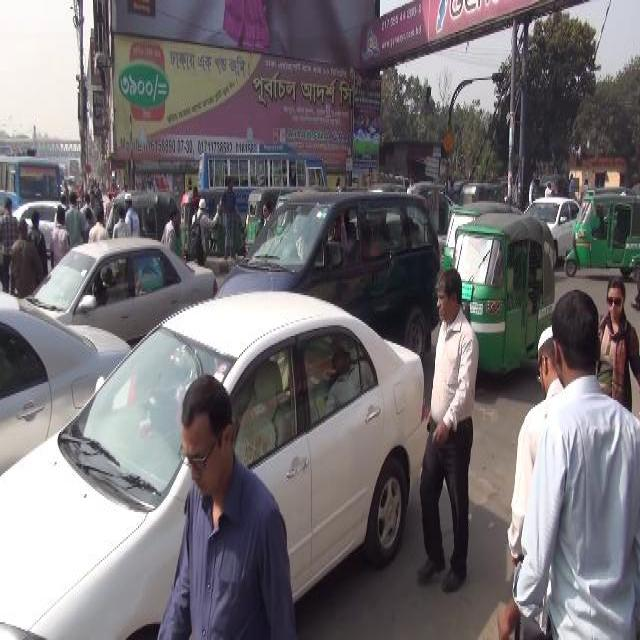bus: (195, 148, 329, 218), (2, 153, 64, 220)
car: (0, 294, 429, 636), (1, 296, 128, 468), (21, 234, 216, 346), (522, 192, 578, 263), (12, 196, 68, 256)
three wheelers -CNG-: (452, 222, 554, 390), (442, 204, 520, 314), (570, 182, 638, 287), (104, 189, 182, 263), (181, 187, 247, 265), (242, 186, 276, 252), (409, 180, 445, 242), (458, 183, 504, 208), (535, 170, 569, 200), (362, 175, 408, 195)
van: (217, 190, 441, 386)
